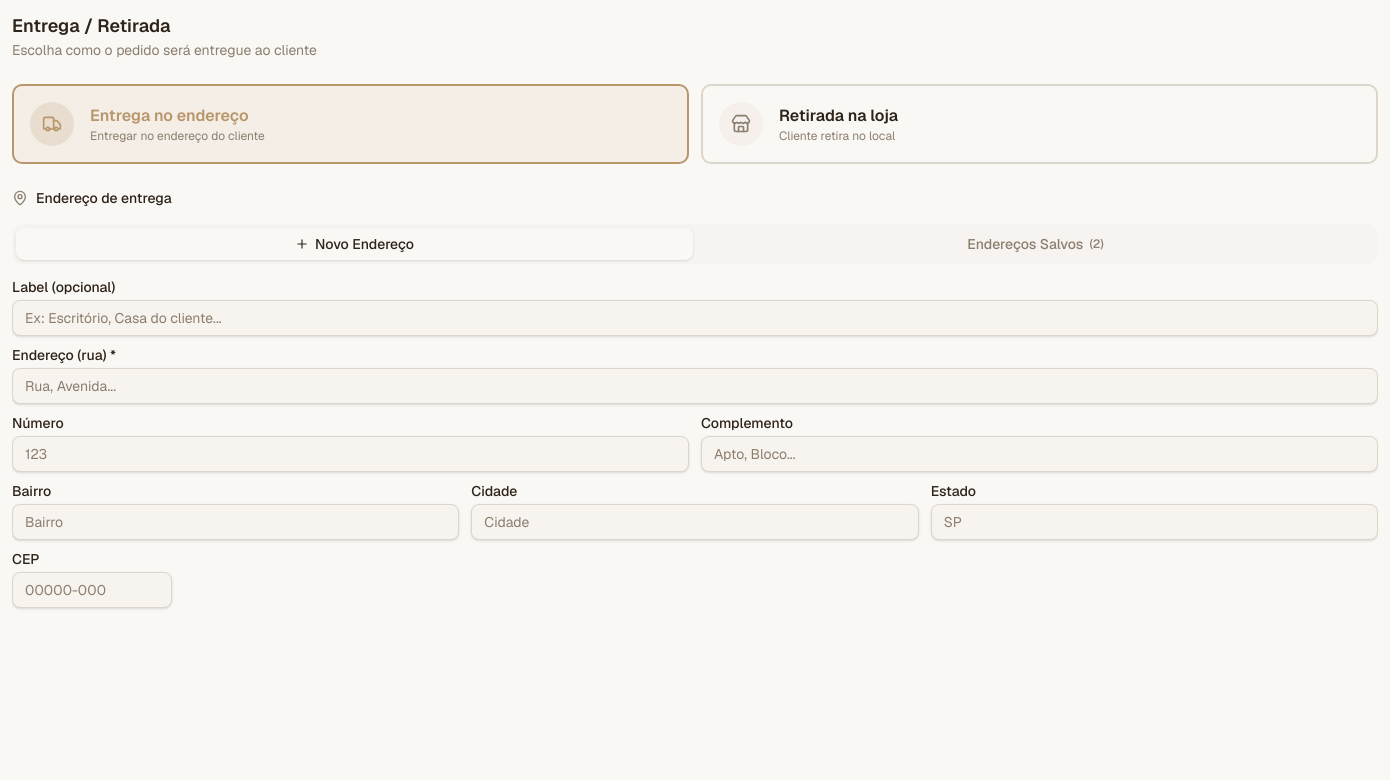
Test case: EntregaStep › shows saved addresses when clicking saved tab
Click the button with test id "tab-saved-addresses": (1036, 244) [697,228,1374,260]
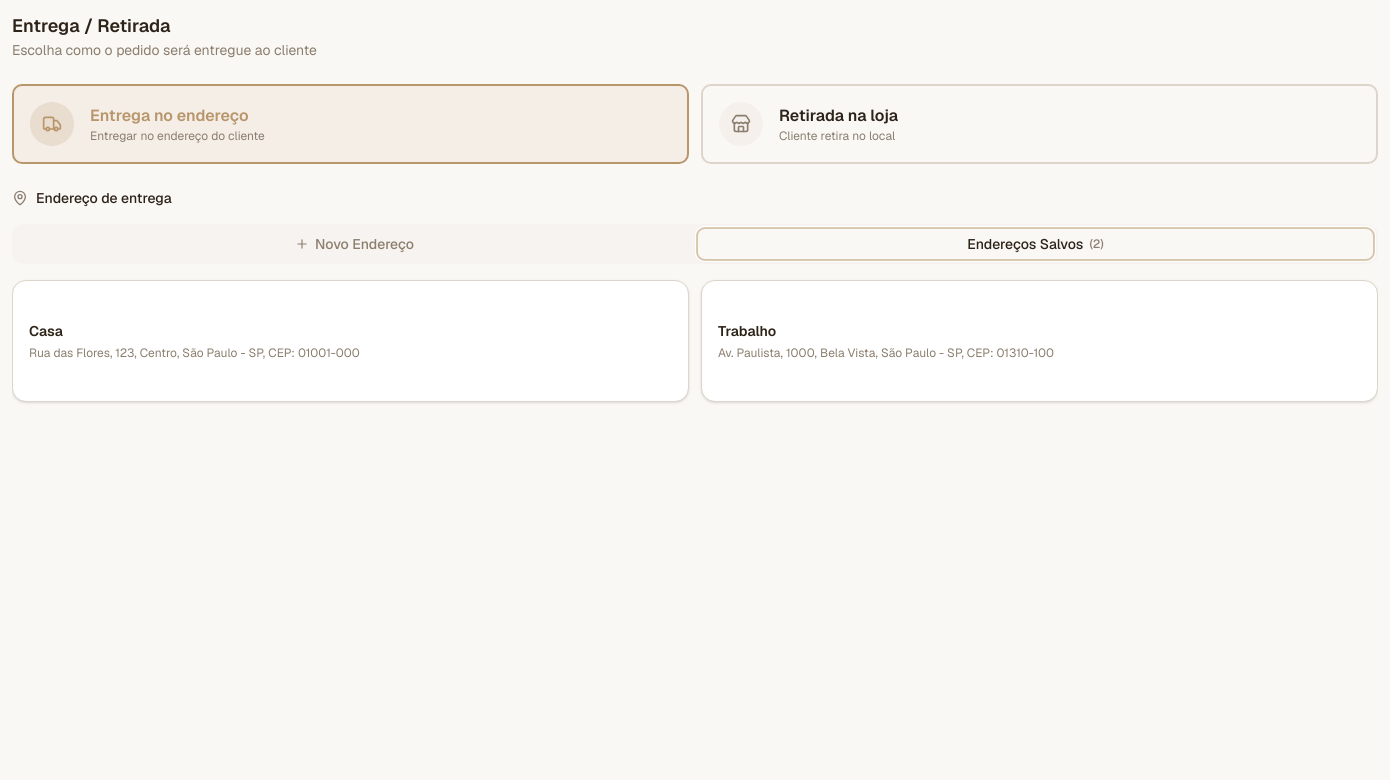
Expected: the text "Casa" is shown, [29,322,63,340]
Expected: the text "Trabalho" is shown, [718,322,776,340]
